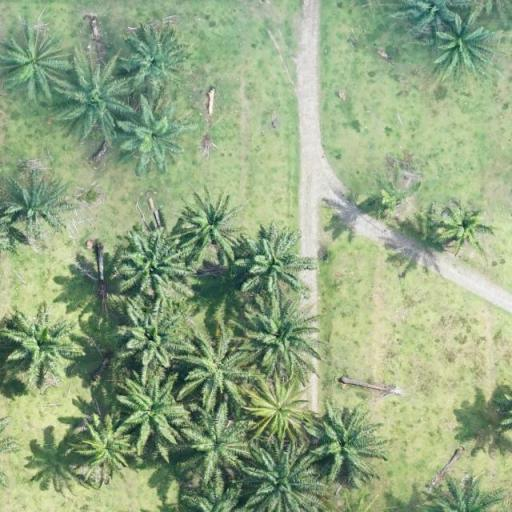Ganoderma: (253, 384, 304, 430), (81, 424, 128, 470), (444, 206, 488, 247)
